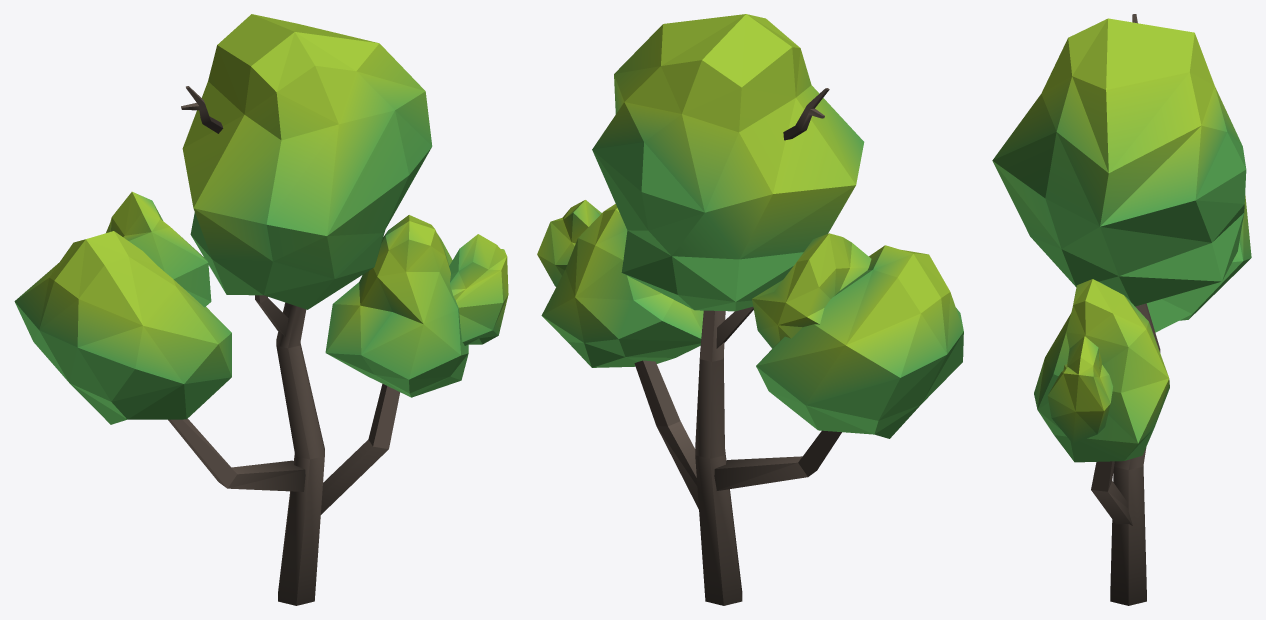
File: tree_8.FBX
3 renders of one model, left to right at view 1: azimuth 30°, elevation 25°; view 2: azimuth 150°, elevation 25°; view 3: azimuth 270°, elevation 25°, orthographic.
Visible parts, largest first — view 1: tree_8; view 2: tree_8; view 3: tree_8.
Part boxes in pixels (x1=…): tree_8: x1=14, y1=14, x2=508, y2=605; tree_8: x1=537, y1=14, x2=963, y2=605; tree_8: x1=992, y1=14, x2=1251, y2=605.
Size of the model in its own units: 235 by 295 by 121.
